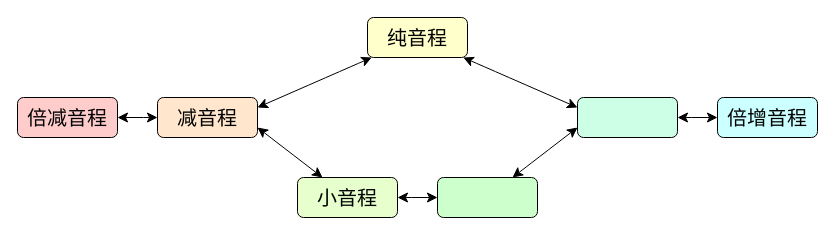
The diagram is 835 pixels wide and 235 high, and some of its shapes have lost their labels. Each missing label, with the centre of its shape:
增音程: the point at 627,117
大音程: the point at 487,197
